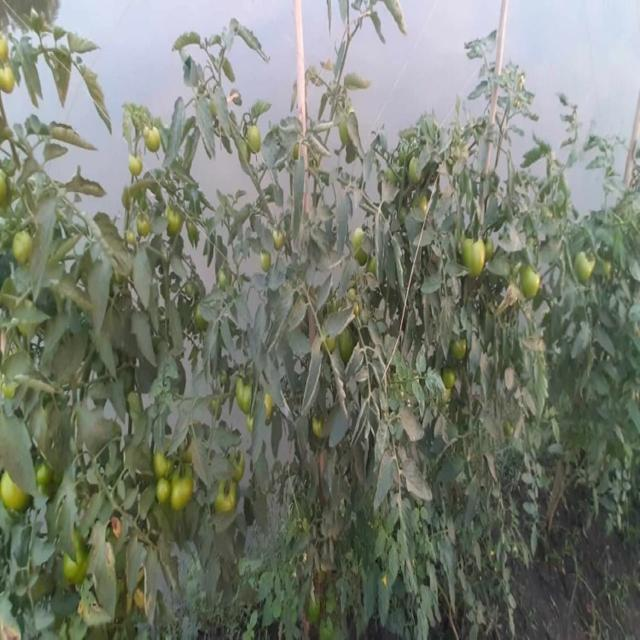tomato: (460, 234, 492, 282), (1, 468, 34, 513), (64, 532, 92, 584), (175, 464, 202, 511), (8, 225, 35, 269), (234, 367, 257, 415), (235, 120, 264, 155), (332, 324, 360, 360), (225, 449, 255, 481), (213, 478, 238, 515), (451, 326, 479, 359), (38, 450, 61, 488), (577, 252, 601, 287), (162, 198, 183, 238), (410, 192, 437, 222), (140, 120, 166, 151), (256, 248, 283, 276), (401, 154, 423, 187), (349, 222, 372, 253), (524, 270, 544, 301), (155, 450, 179, 474), (1, 70, 21, 98), (270, 225, 295, 247), (210, 268, 231, 293), (263, 391, 284, 416), (134, 212, 151, 242), (440, 361, 459, 387), (155, 475, 173, 502), (126, 155, 148, 177), (311, 410, 329, 434), (1, 34, 14, 67), (1, 171, 13, 203)
